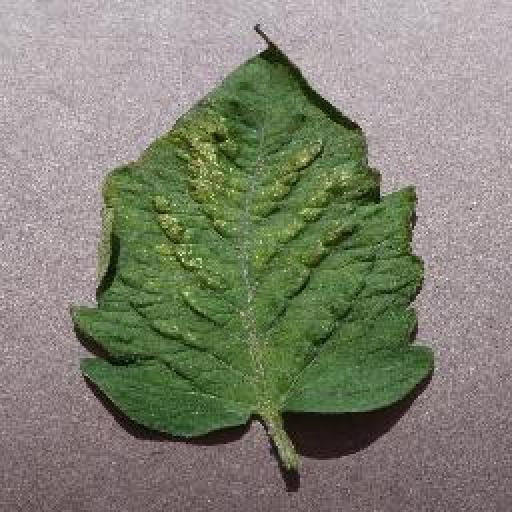Spider Mites: (71, 34, 436, 438)
